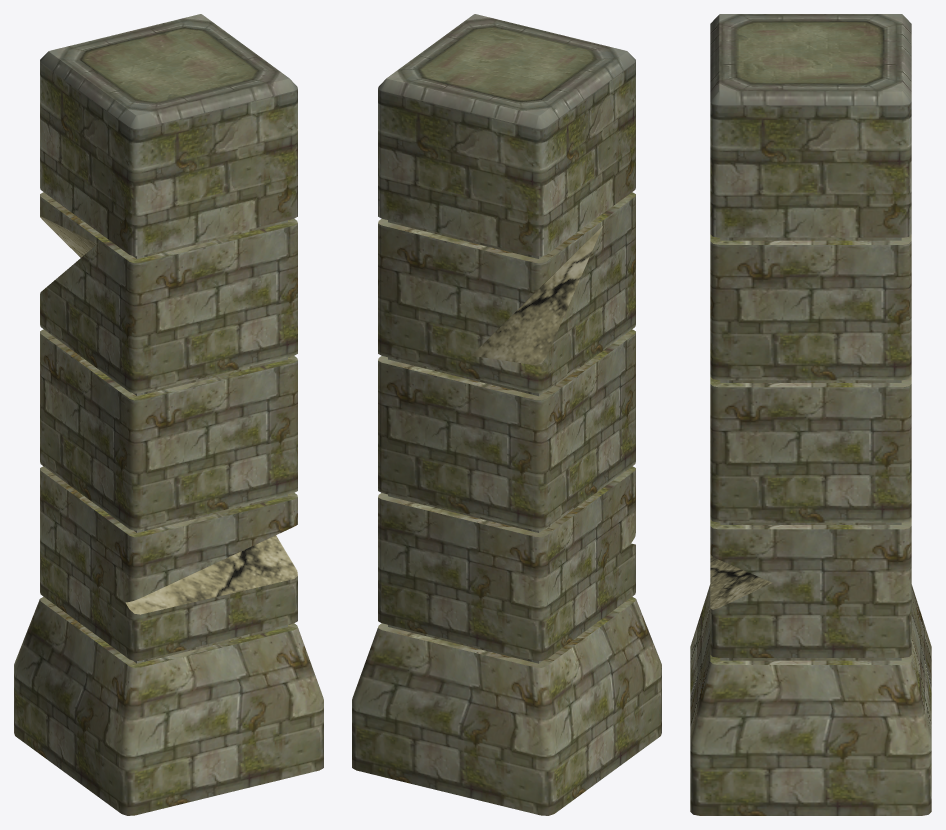
The model's file is colum-02.fbx.
3 renders of one model, left to right at view 1: azimuth 30°, elevation 25°; view 2: azimuth 150°, elevation 25°; view 3: azimuth 270°, elevation 25°, orthographic. The views are drawn at different scales.
Parts seen in each view (by area): view 1: Cube.221; view 2: Cube.221; view 3: Cube.221.
Part boxes in pixels (box(x1,y1,x2,y2)): Cube.221: box(14, 14, 323, 815); Cube.221: box(352, 14, 661, 815); Cube.221: box(690, 14, 931, 815).
Bounding box in the file's own units: 0.768 × 2.5 × 0.768.
